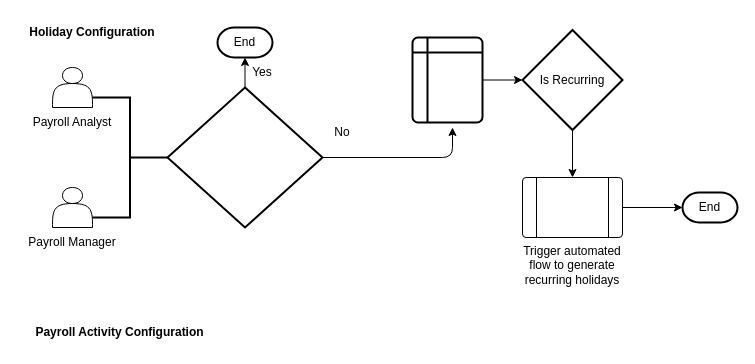
Some shapes in this 755 by 364 pixel diagram are drawn without their labels. The shapes that lost their labels are listed below. From the top down, each one's centre as x and y in pixels, then its label:
the point at 447,79: Create Holidy Config
the point at 244,157: Holidays (Recurring / Public) Defined?
